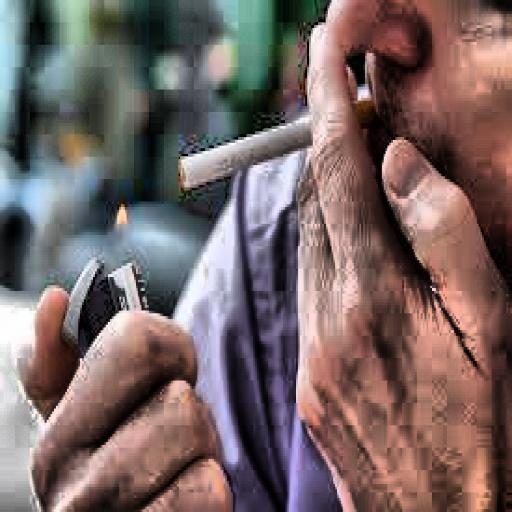fire: (104, 190, 134, 232)
